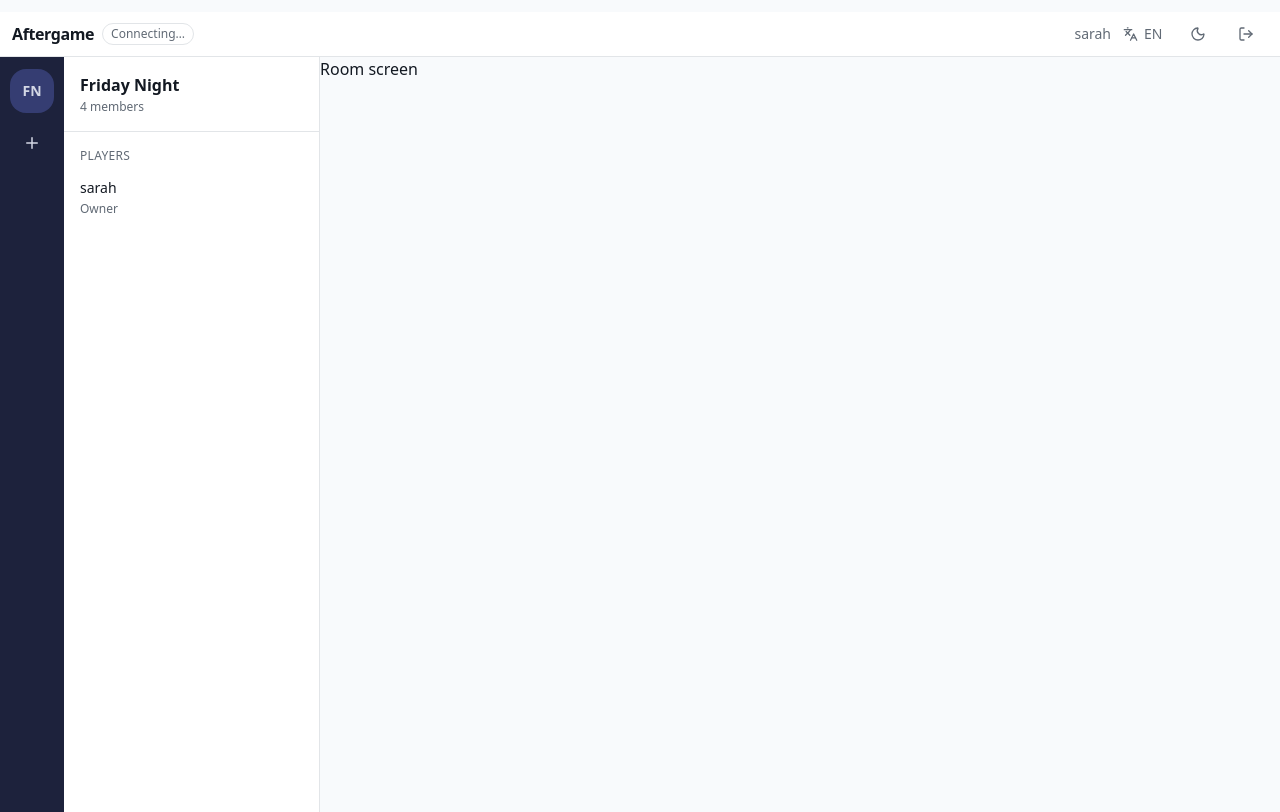
choosing a language › renders the app in French and back again
The width and height of the screenshot is (1280, 812).
Expected: the navigation bar named "Rooms" is shown, [0,57,320,811]
Select "FR" in the dropdown named "Language" at {"x": 1144, "y": 34}, box [1115,12,1172,56]
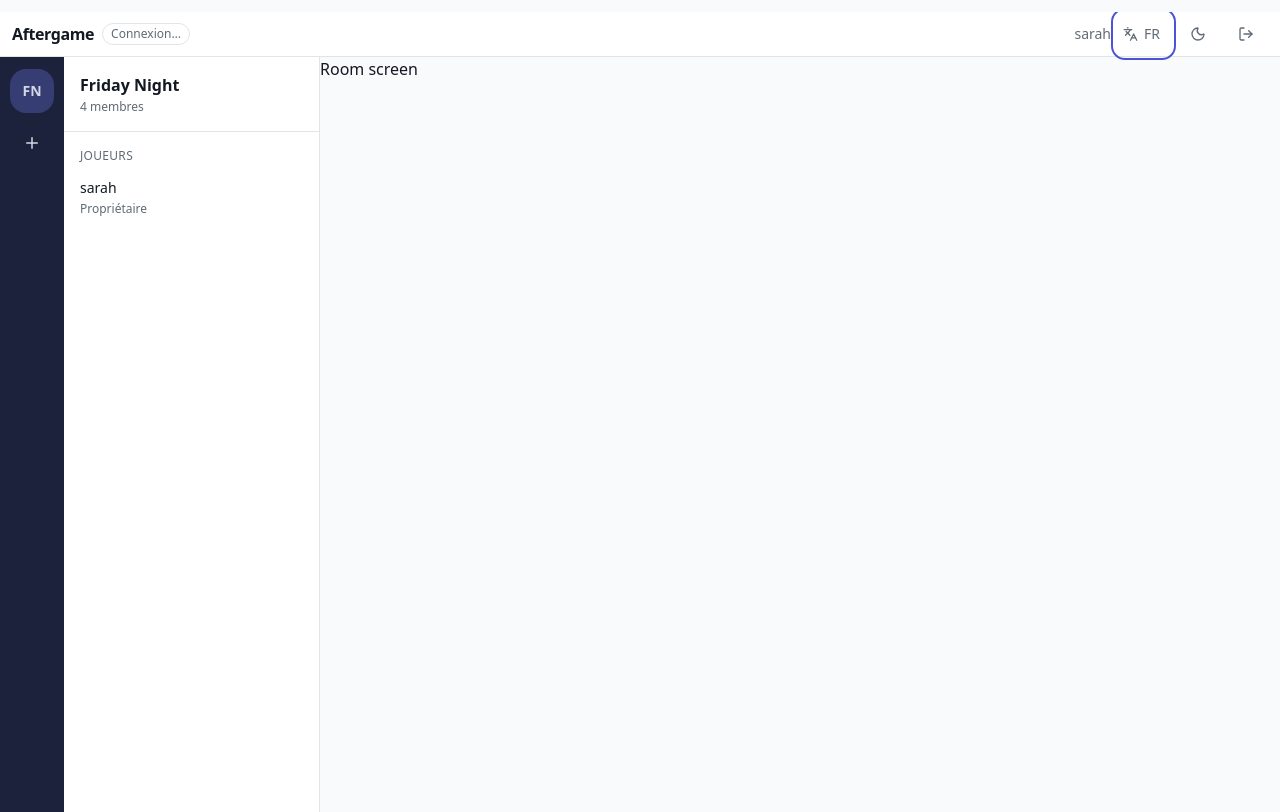
Expected: the navigation bar named "Salles" is shown, [0,57,320,811]
Expected: the heading "Joueurs" is shown, [80,147,133,164]
// The switcher itself is now labelled in the language it just switched to.
Select "EN" in the dropdown named "Langue" at {"x": 1144, "y": 34}, box [1115,12,1172,56]
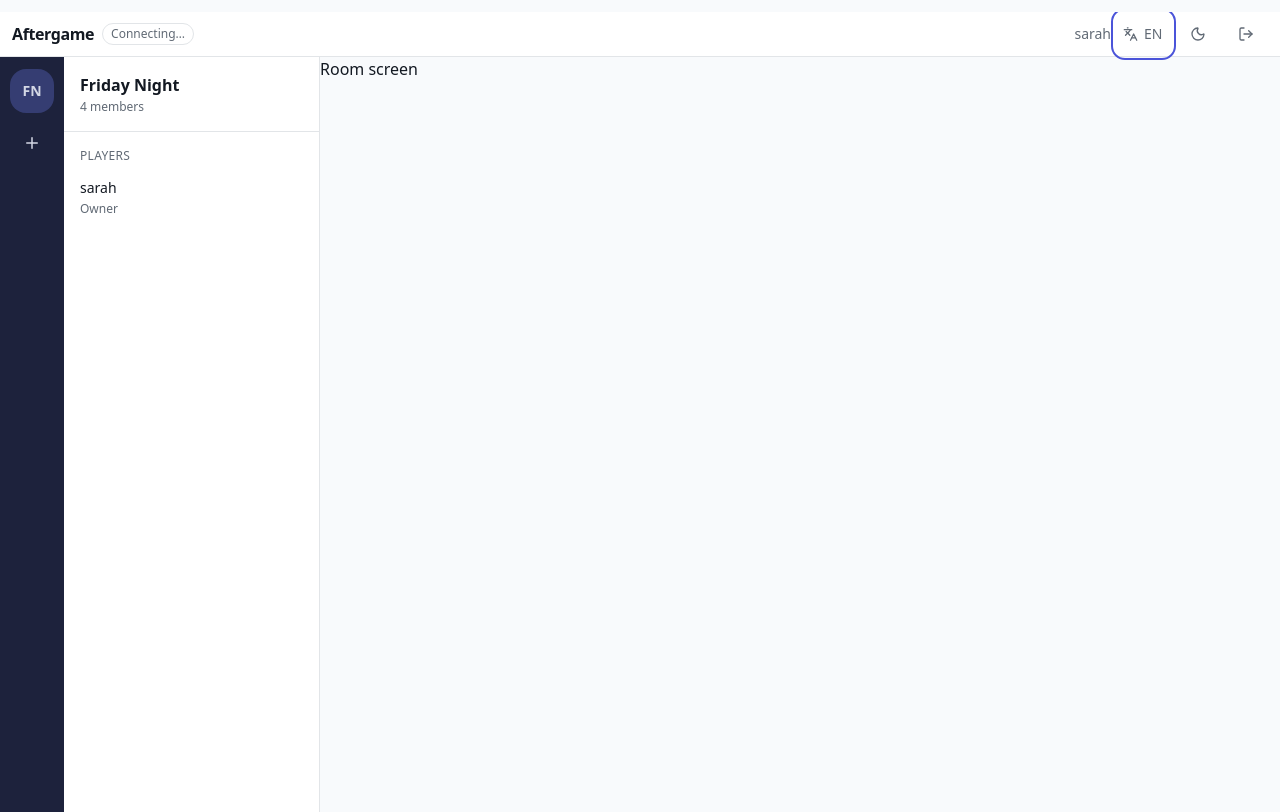
Expected: the navigation bar named "Rooms" is shown, [0,57,320,811]
